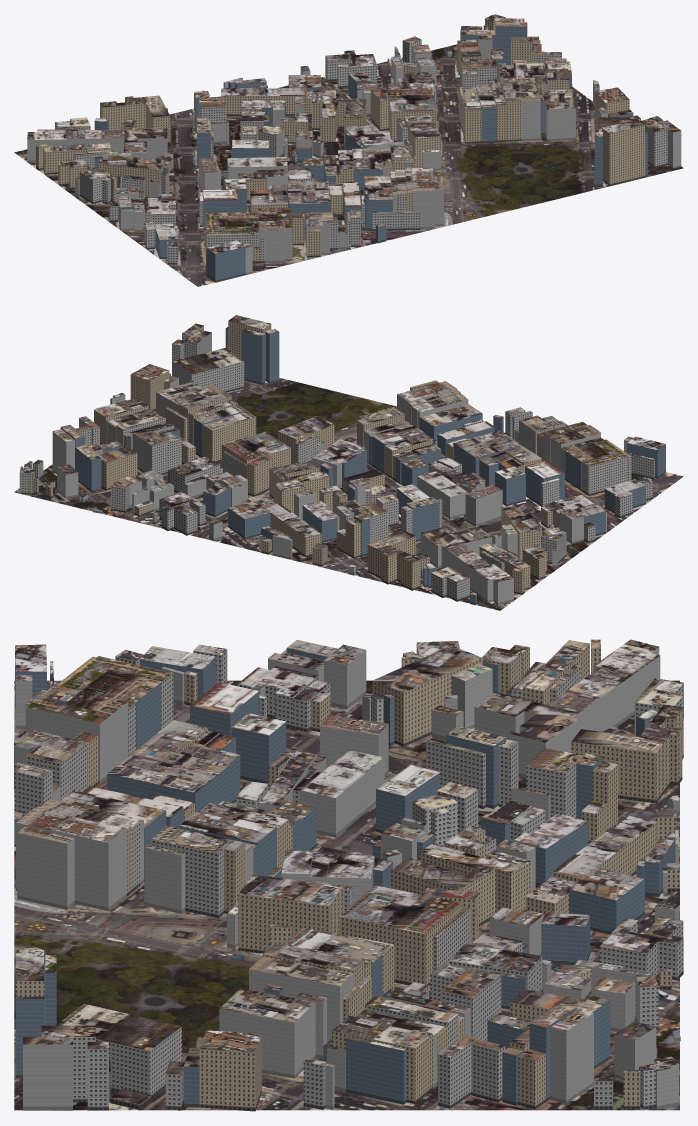
The model's file is new_nyc.glb.
The picture shows the model from 3 angles, top to bottom: view 1: azimuth 30°, elevation 25°; view 2: azimuth 150°, elevation 25°; view 3: azimuth 270°, elevation 25°; orthographic projection. The views are drawn at different scales.
Bounding box in the file's own units: 654 × 67.83 × 430.
3 materials, 3 textured.
